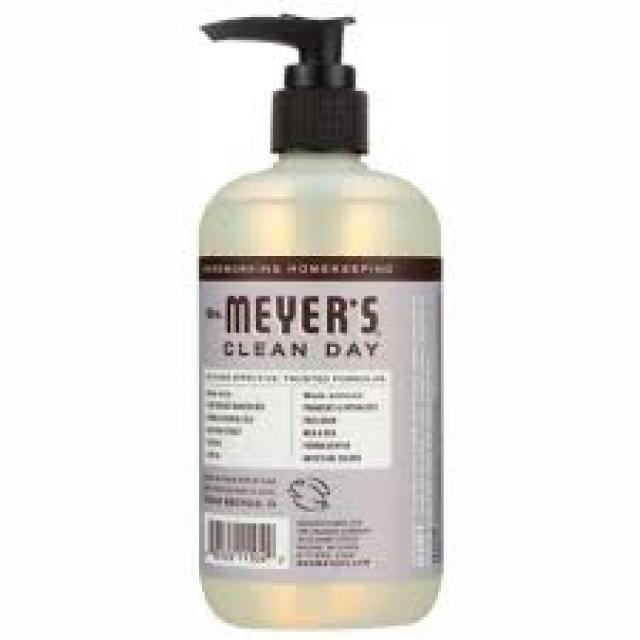liquid soap: (195, 12, 447, 626)
